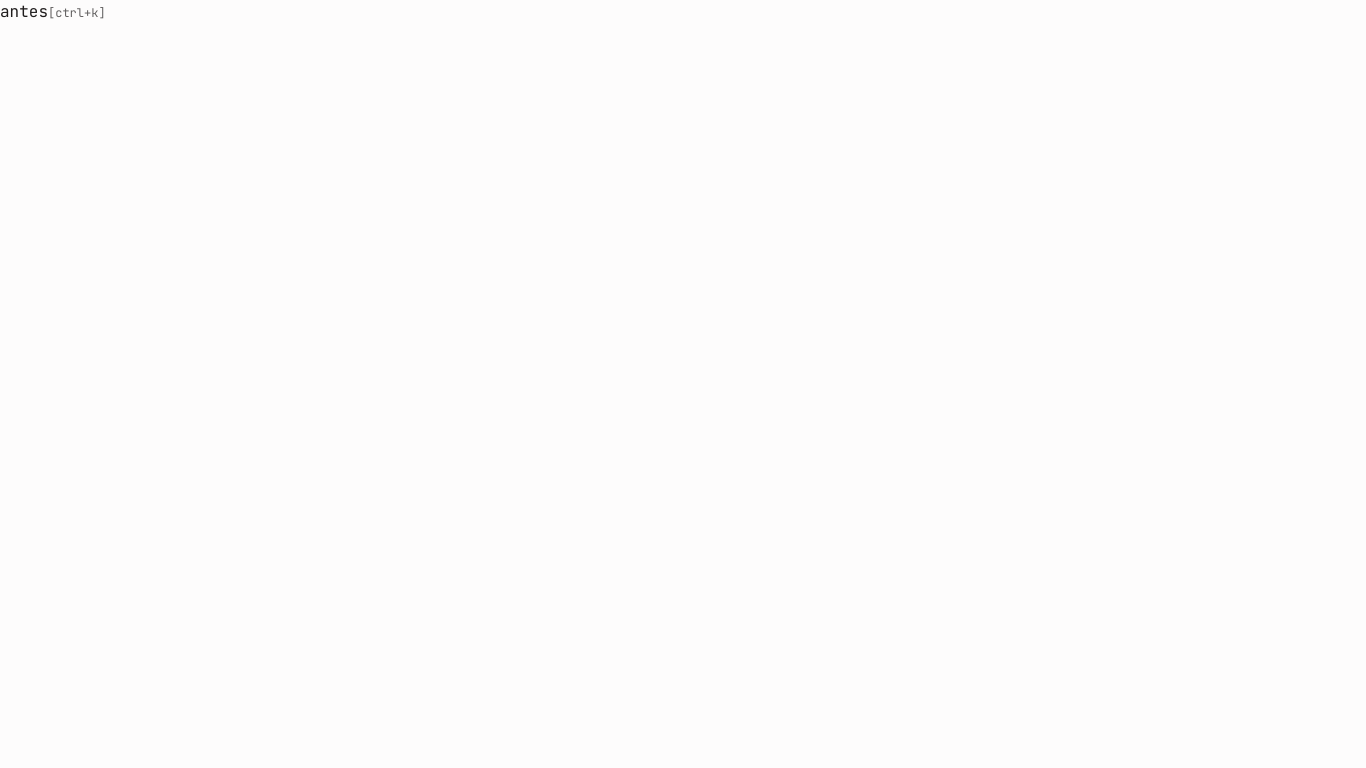
Test: CommandPalette › muestra command not found sin resultados
Type keys "{Control>}k{/Control}"
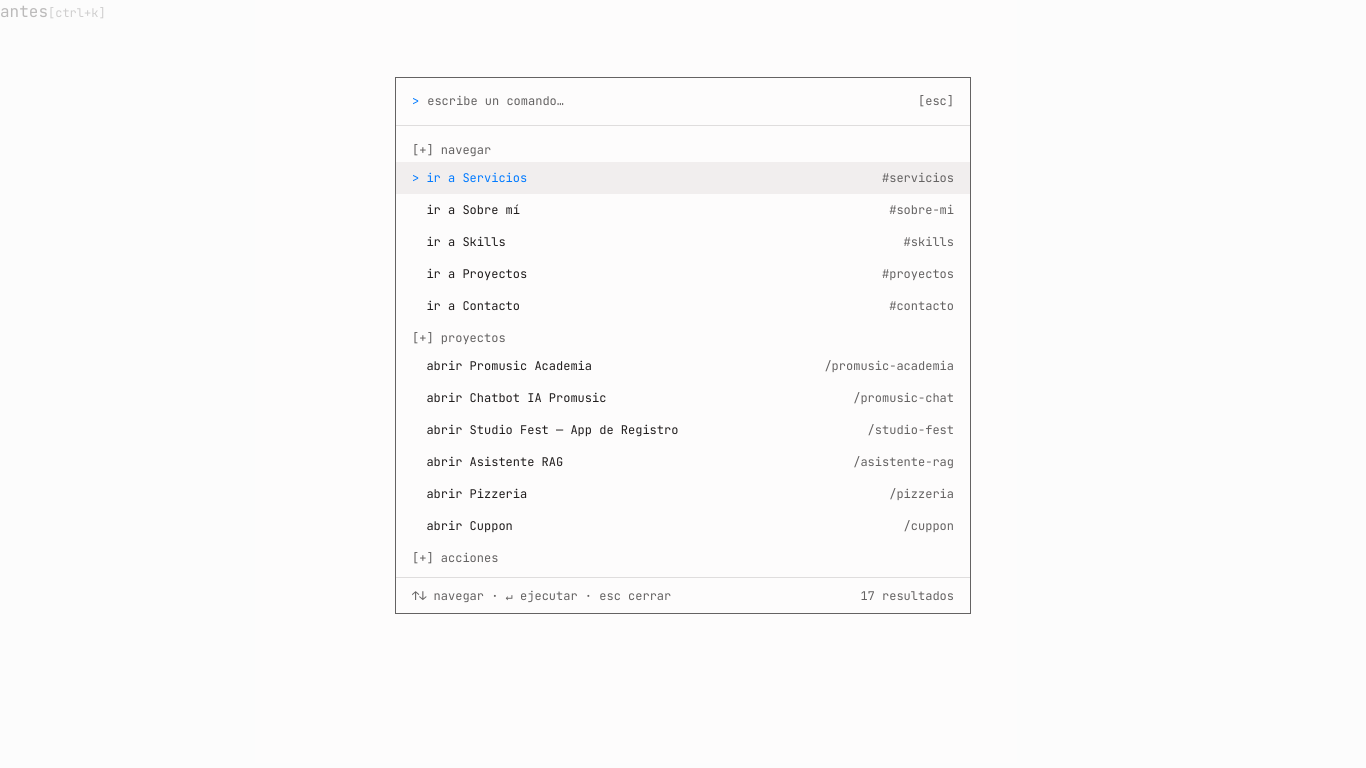
Type "xyzq" into the dropdown at (669, 101), box x1=427 y1=93 x2=910 y2=109
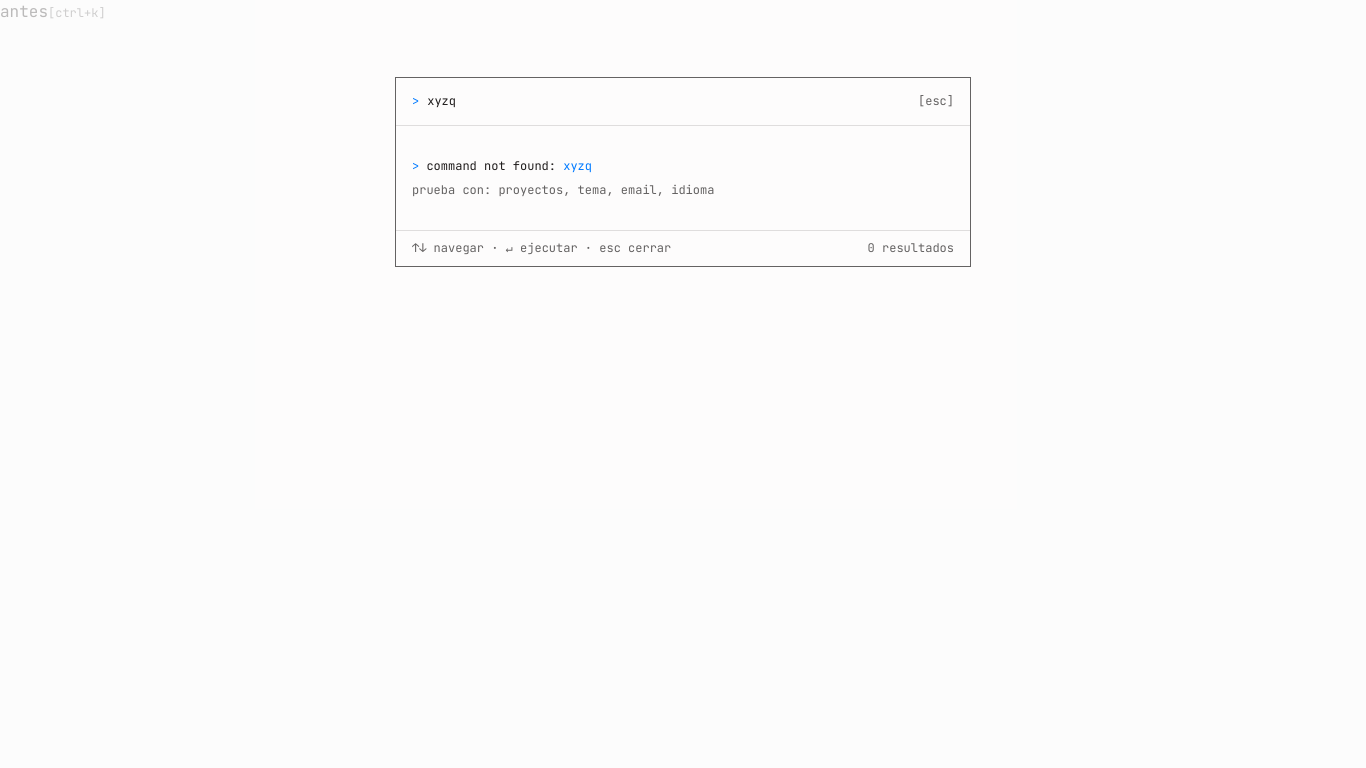
Now the option is gone
Now the text "> command not found: xyzq" is shown, box x1=412 y1=158 x2=592 y2=174
Now the text "xyzq" is shown, box x1=563 y1=158 x2=592 y2=174
